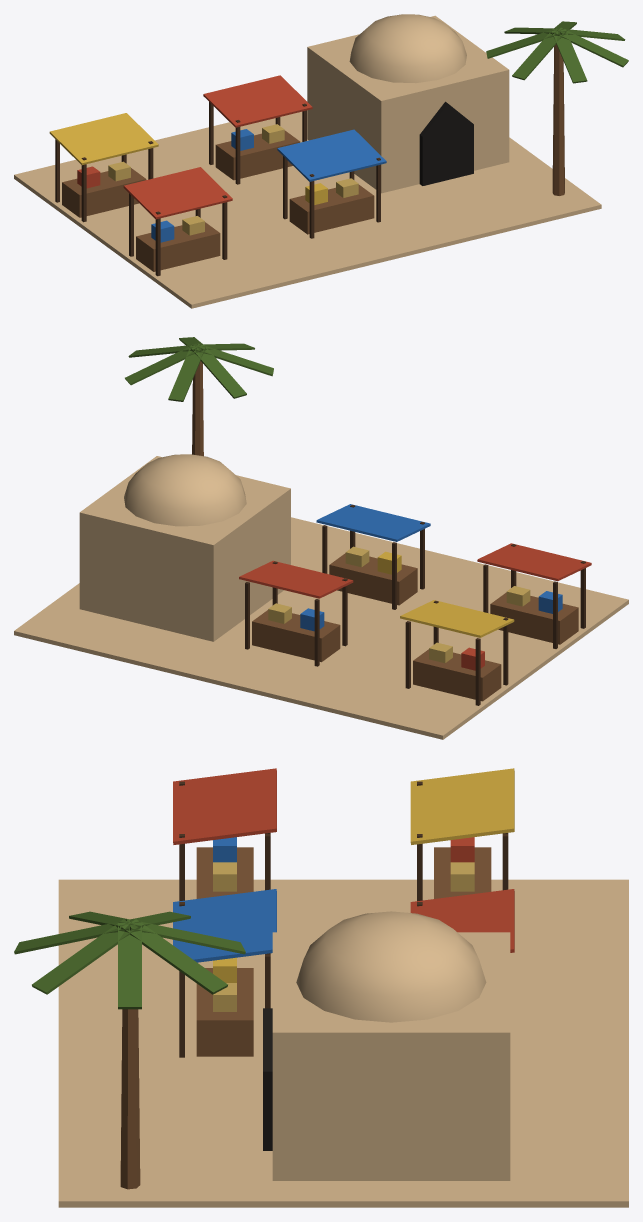
File: market.glb
3 renders of one model, top to bottom at view 1: azimuth 30°, elevation 25°; view 2: azimuth 150°, elevation 25°; view 3: azimuth 270°, elevation 25°, orthographic. The views are drawn at different scales.
Visible parts, largest first — view 1: Market; view 2: Market; view 3: Market.
Part boxes in pixels (x1,y1,x2,y2): Market: (14, 14, 628, 308); Market: (14, 337, 628, 739); Market: (14, 768, 628, 1207).
Bounding box in the file's own units: 17.65 × 6.23 × 12.94.
